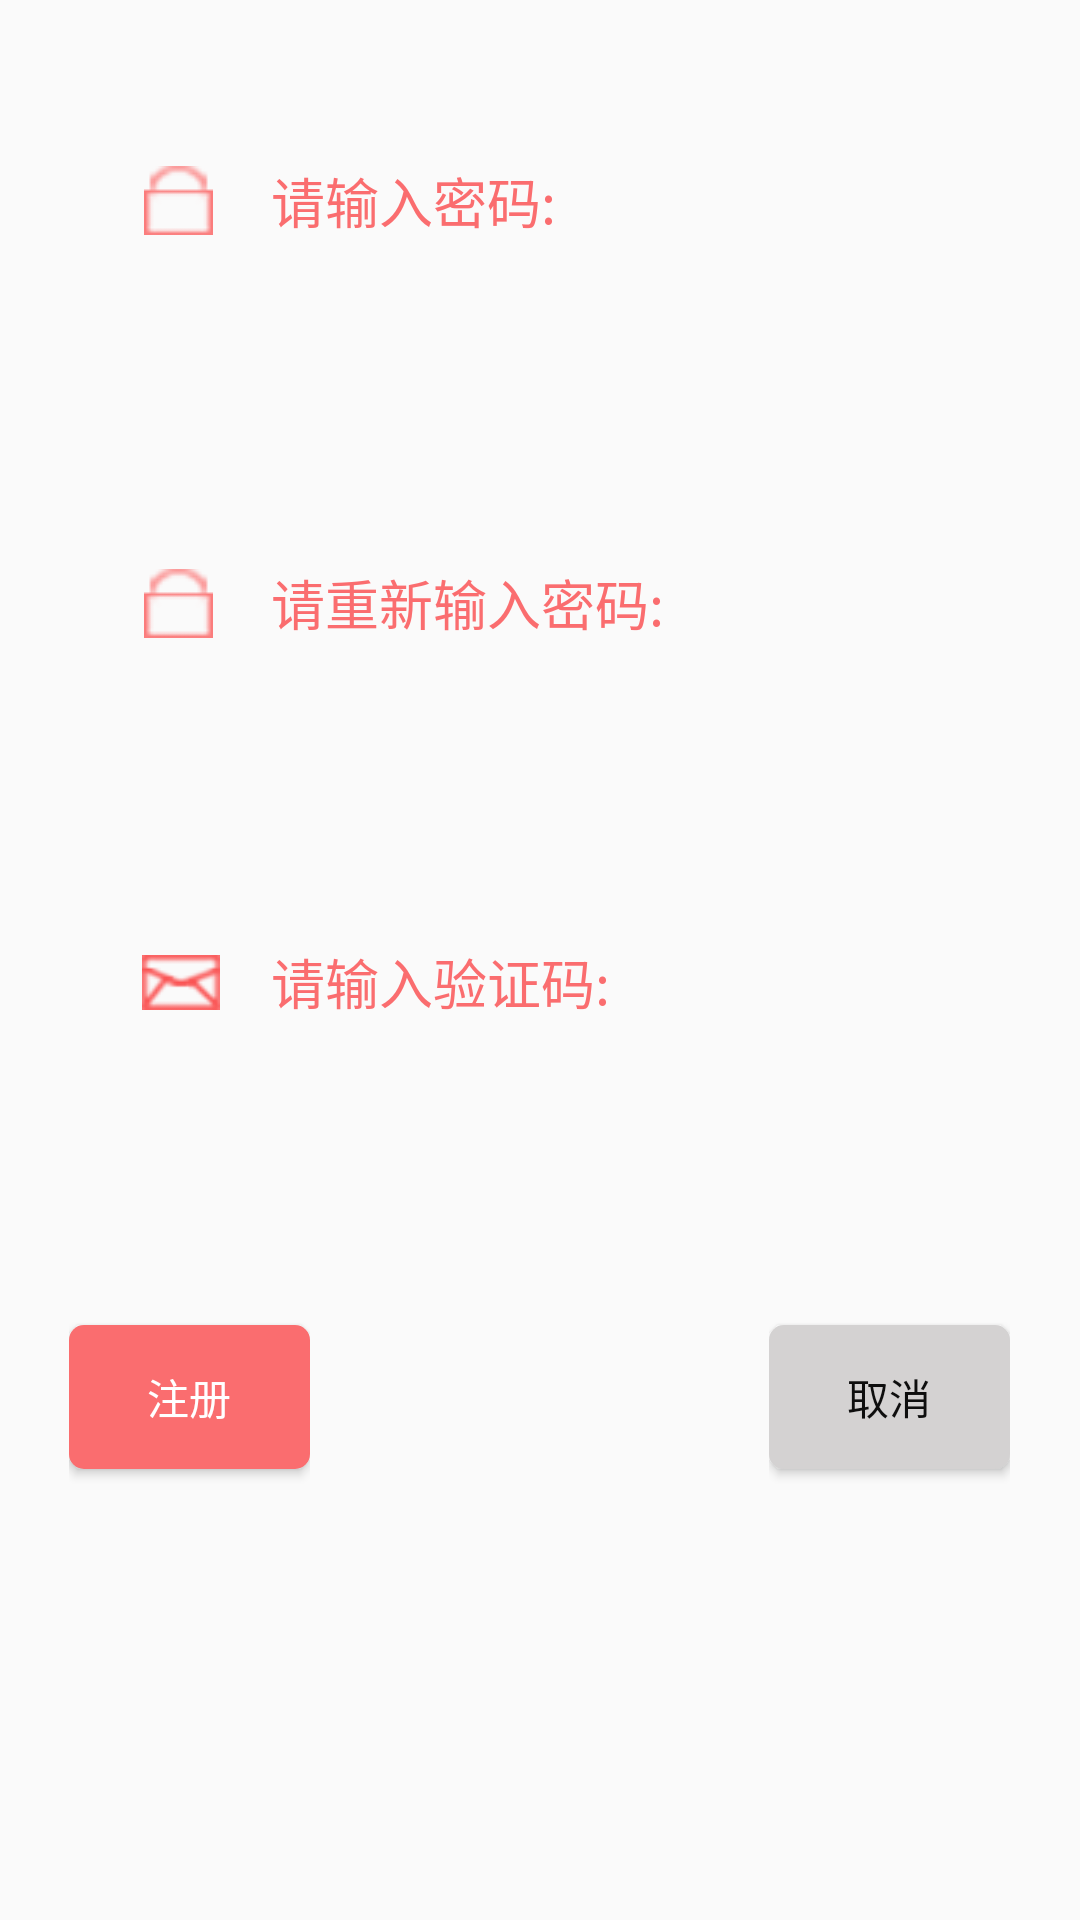

Named icons in this screenshot (1080×1920) and their centers, [x,y]:
message: [181,982]
